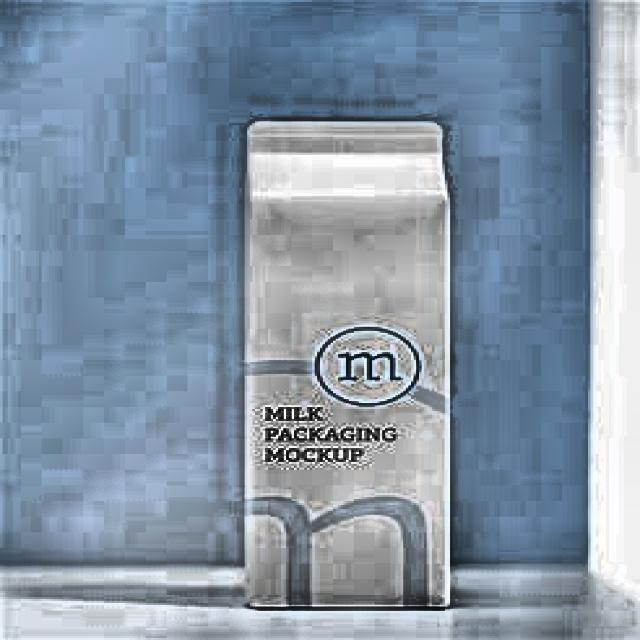cardboard: (242, 119, 450, 609)
